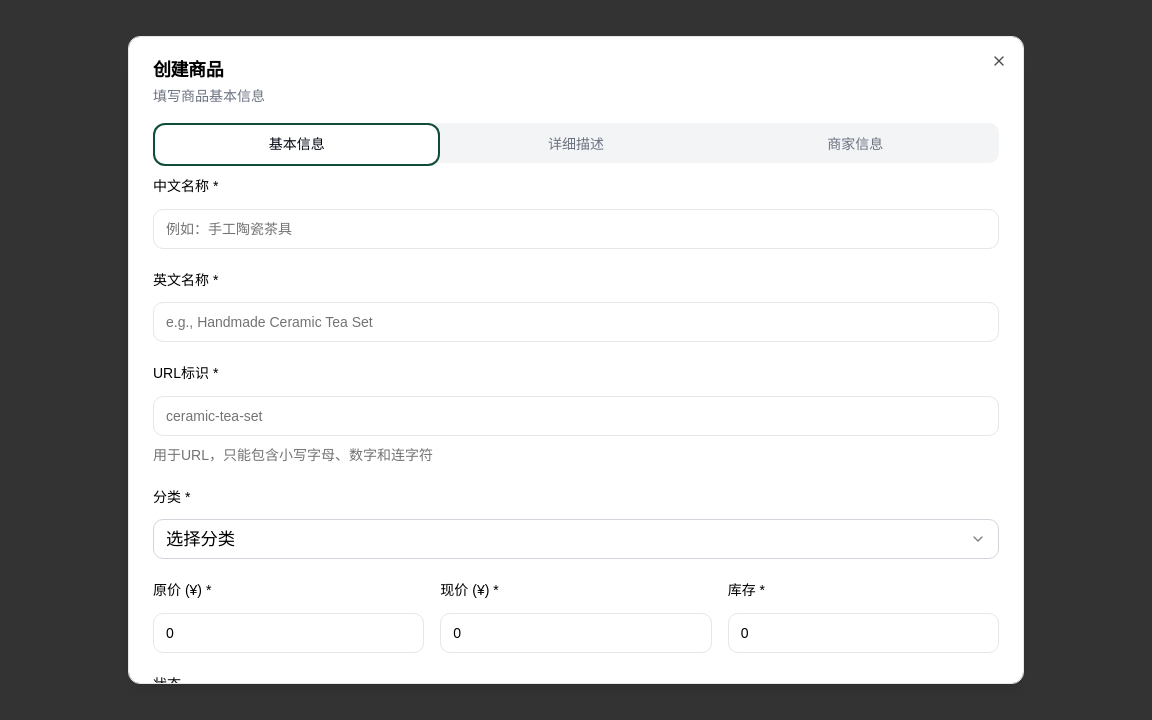
ProductEditor - Form Validation Tests (Requirements 9.2) › Price Validation › should show error when original price is negative
Replace the text in the number field labelled "原价 (¥) *" with "-100" at (289, 633), box [153,613,424,653]
(page scrolled)
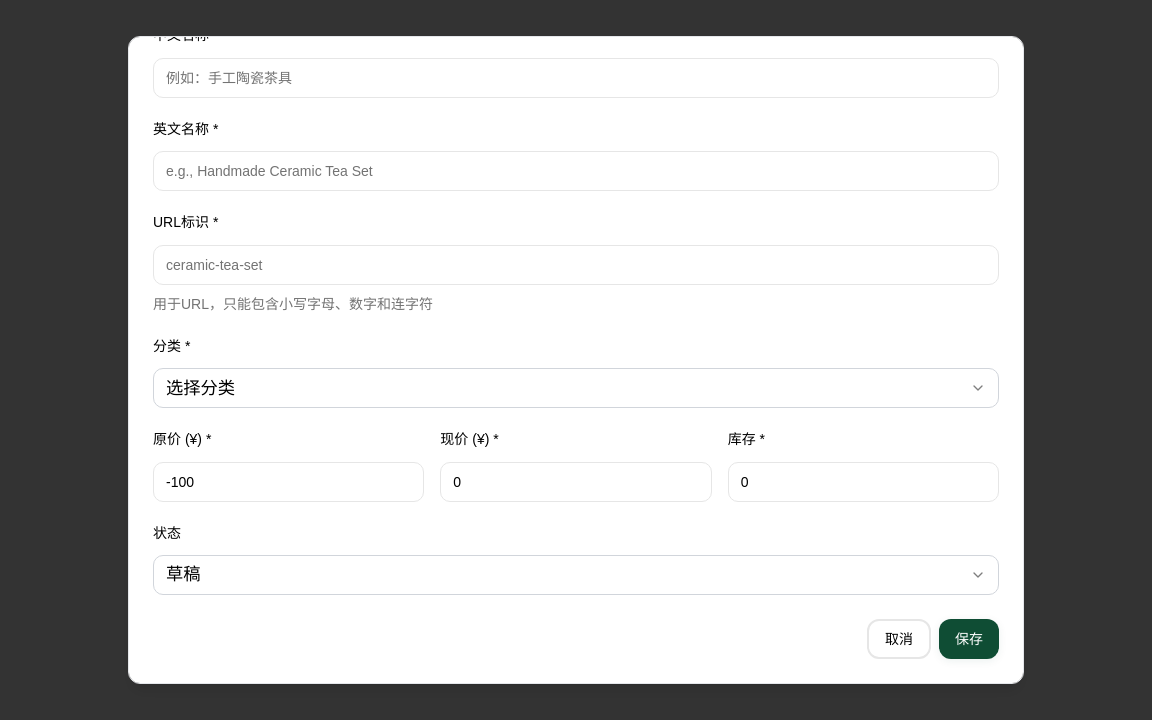
Click the button "保存" at (969, 639), box [939,619,999,659]
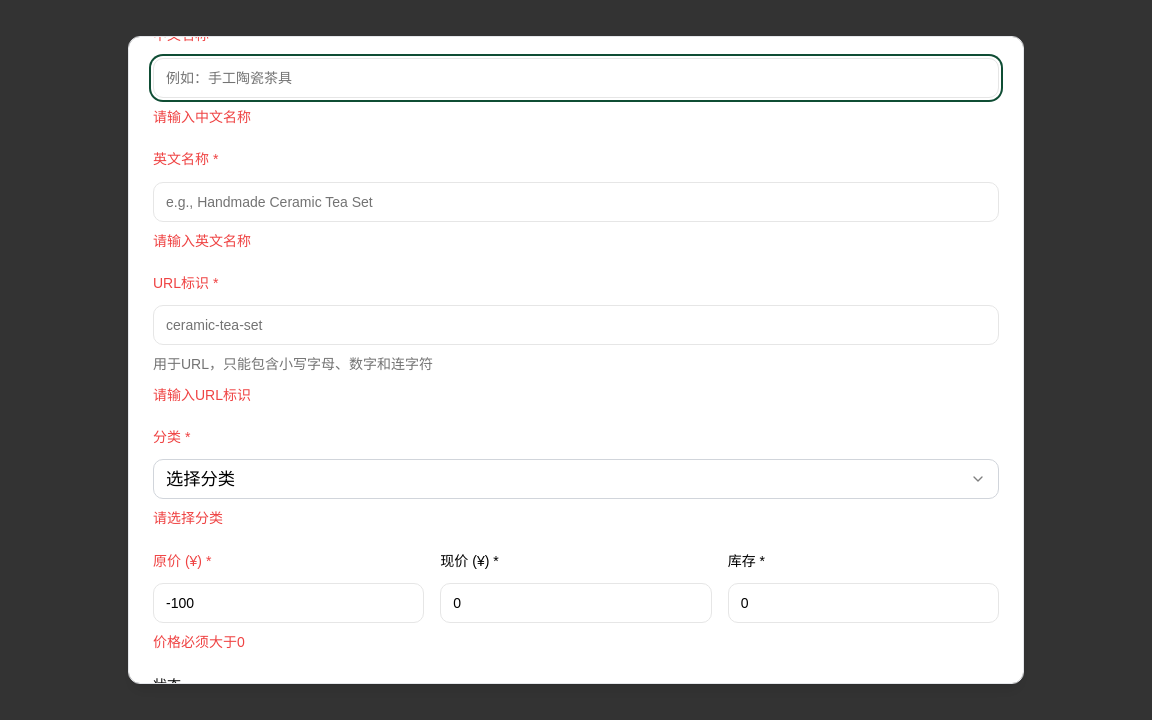
Expected: the text "价格必须大于0" is shown, [153,634,245,650]
